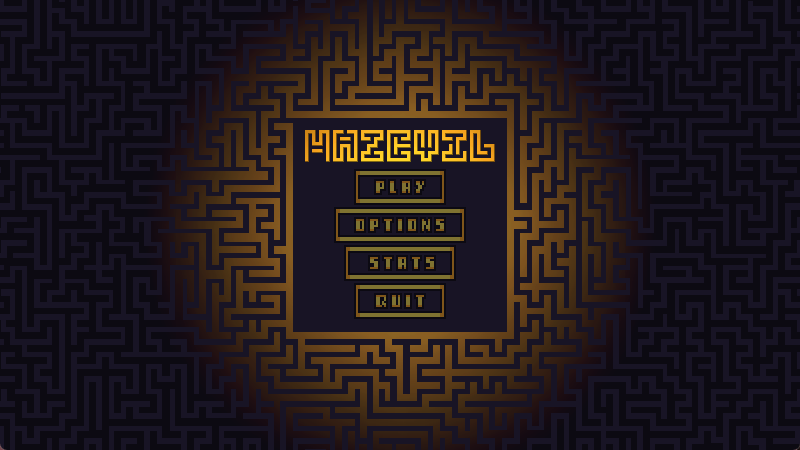start_screen: (1, 1, 800, 450)
start_screen_play: (356, 170, 444, 202)
